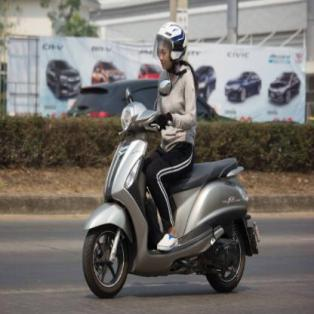Motocicleta: (77, 81, 260, 299)
